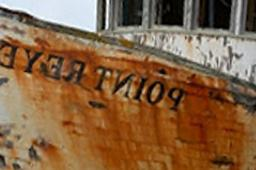rust: (14, 43, 253, 170)
